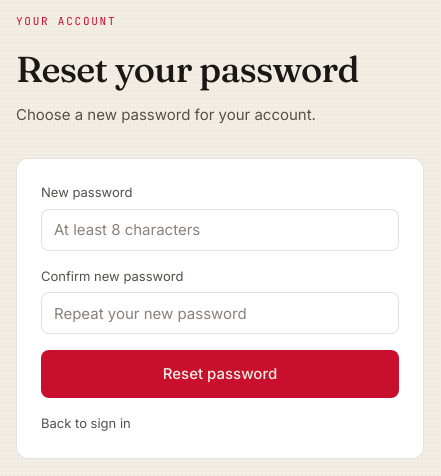
Test case: ResetPasswordPage › shows a generic invalid-link message for an unknown/expired token
Step 1. Type "password123" into the password field labelled "New password" → (220, 230), box left=41, top=208, right=399, bottom=250
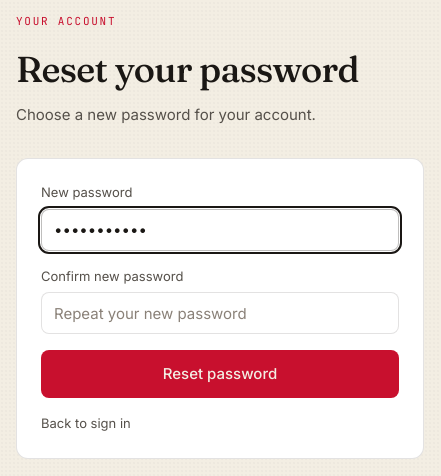
Step 2. Type "password123" into the password field labelled "Confirm new password" → (220, 313), box left=41, top=292, right=399, bottom=334
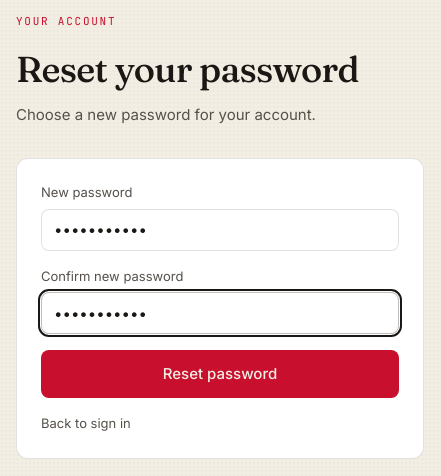
Step 3. Click the button "Reset password" → (220, 374), box left=41, top=350, right=399, bottom=398
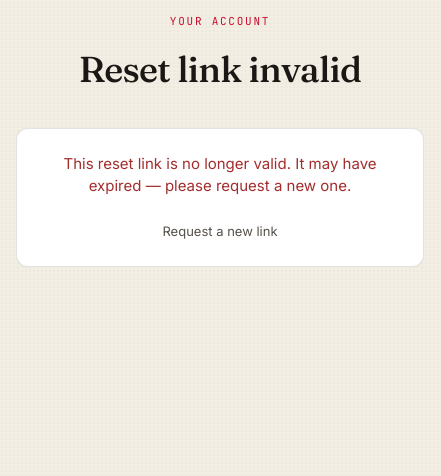
Result: the message shows "no longer valid" at left=64, top=154, right=377, bottom=195
